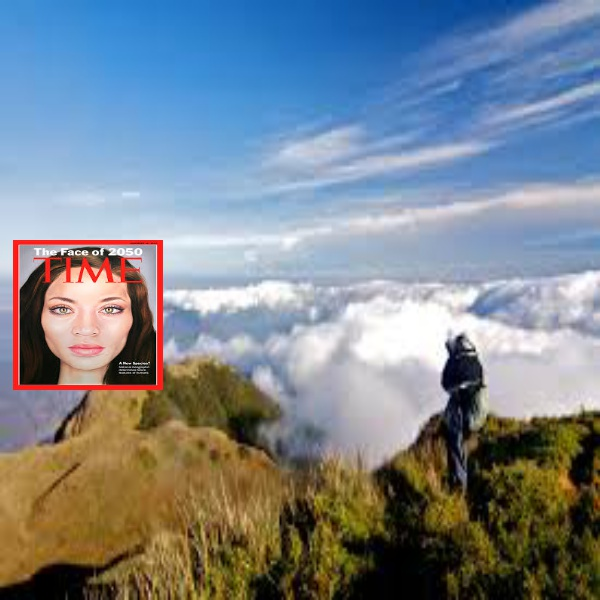time_cover: (4, 235, 168, 394)
